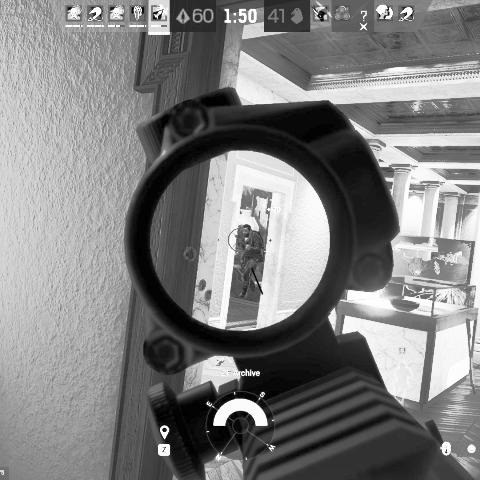Character: (235, 223, 265, 300)
Friend_label: (387, 346, 418, 363)
Head: (240, 223, 253, 238)
